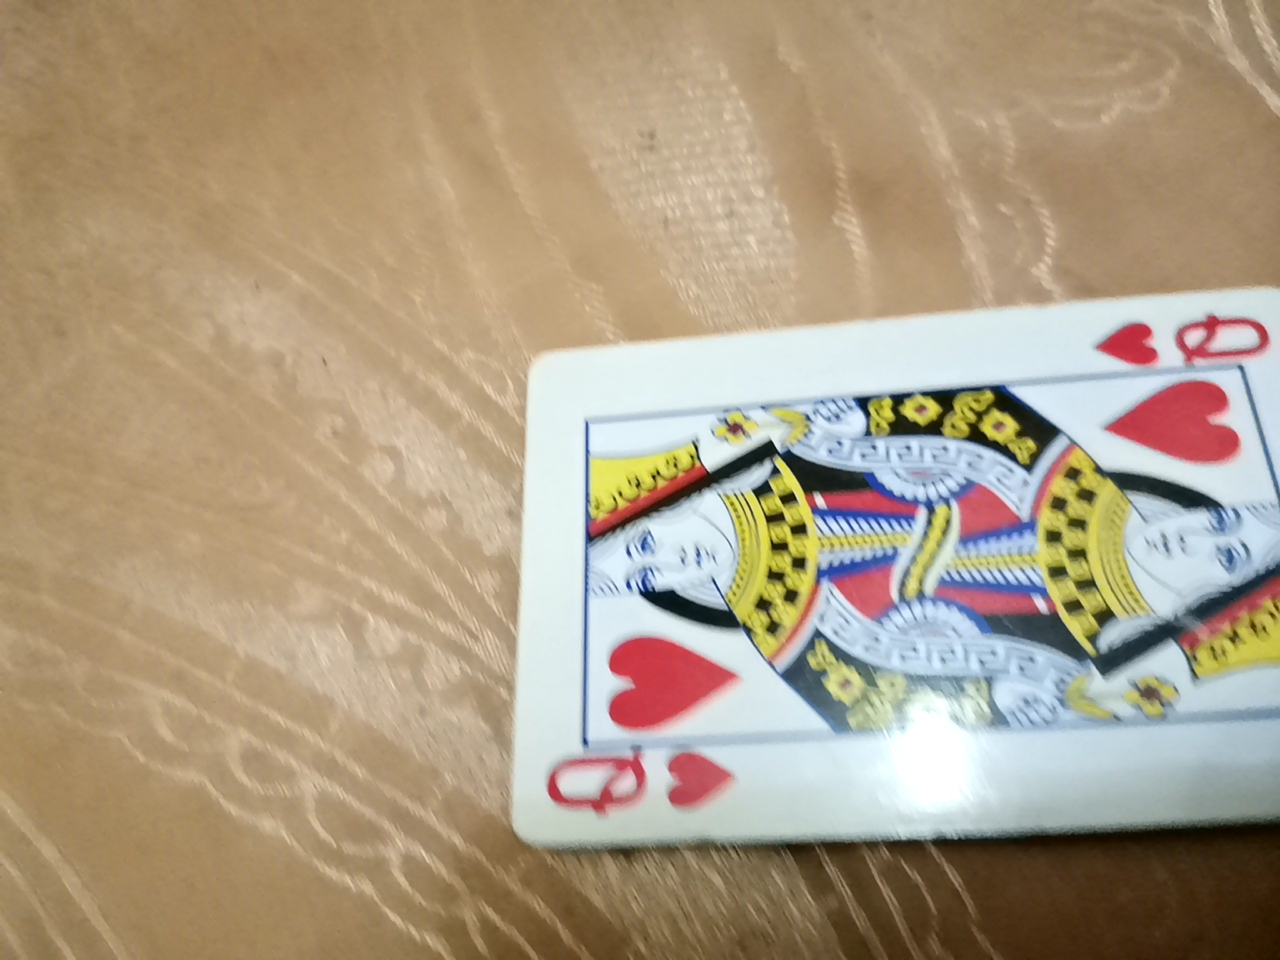hx q: (512, 352, 1278, 907)
